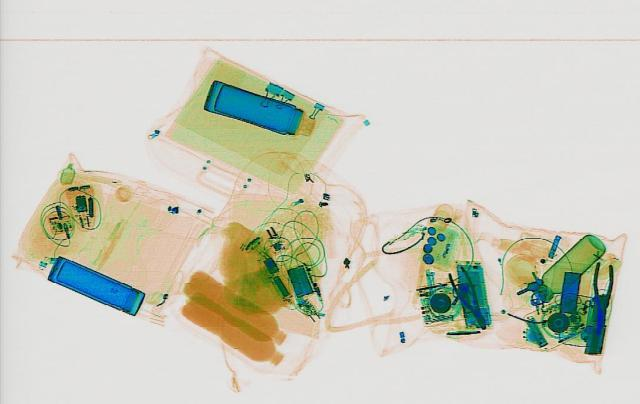Pliers: (440, 264, 498, 327), (586, 260, 614, 331)
